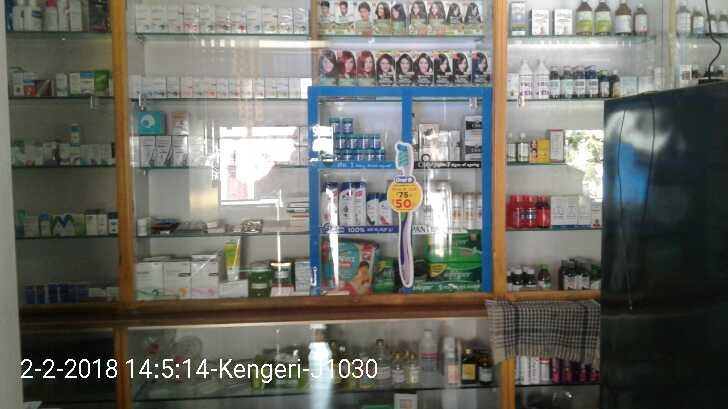beauty: (353, 180, 366, 226), (339, 185, 353, 226), (378, 191, 391, 225), (464, 137, 482, 161), (464, 192, 476, 228), (366, 190, 378, 224), (452, 191, 463, 226), (464, 115, 482, 136), (449, 129, 460, 162)
pharmacy: (320, 236, 376, 290), (424, 233, 483, 260), (427, 261, 481, 287), (374, 257, 394, 290), (325, 115, 340, 133), (345, 133, 357, 151), (355, 133, 367, 151), (334, 133, 346, 150), (340, 118, 353, 132), (369, 132, 379, 150), (374, 148, 384, 162), (356, 153, 366, 164), (366, 152, 375, 164)
